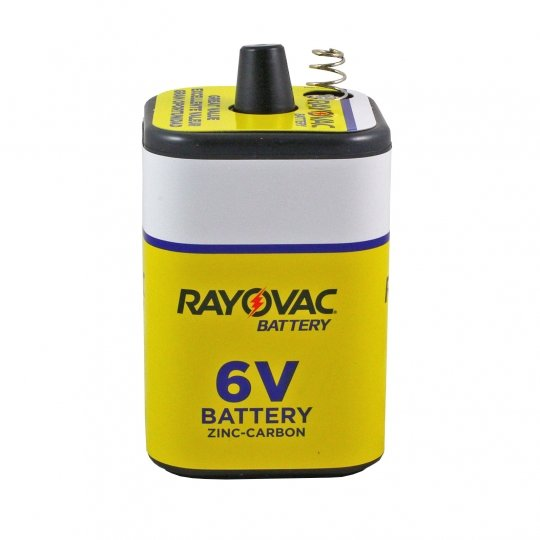6V: (135, 34, 412, 498)
